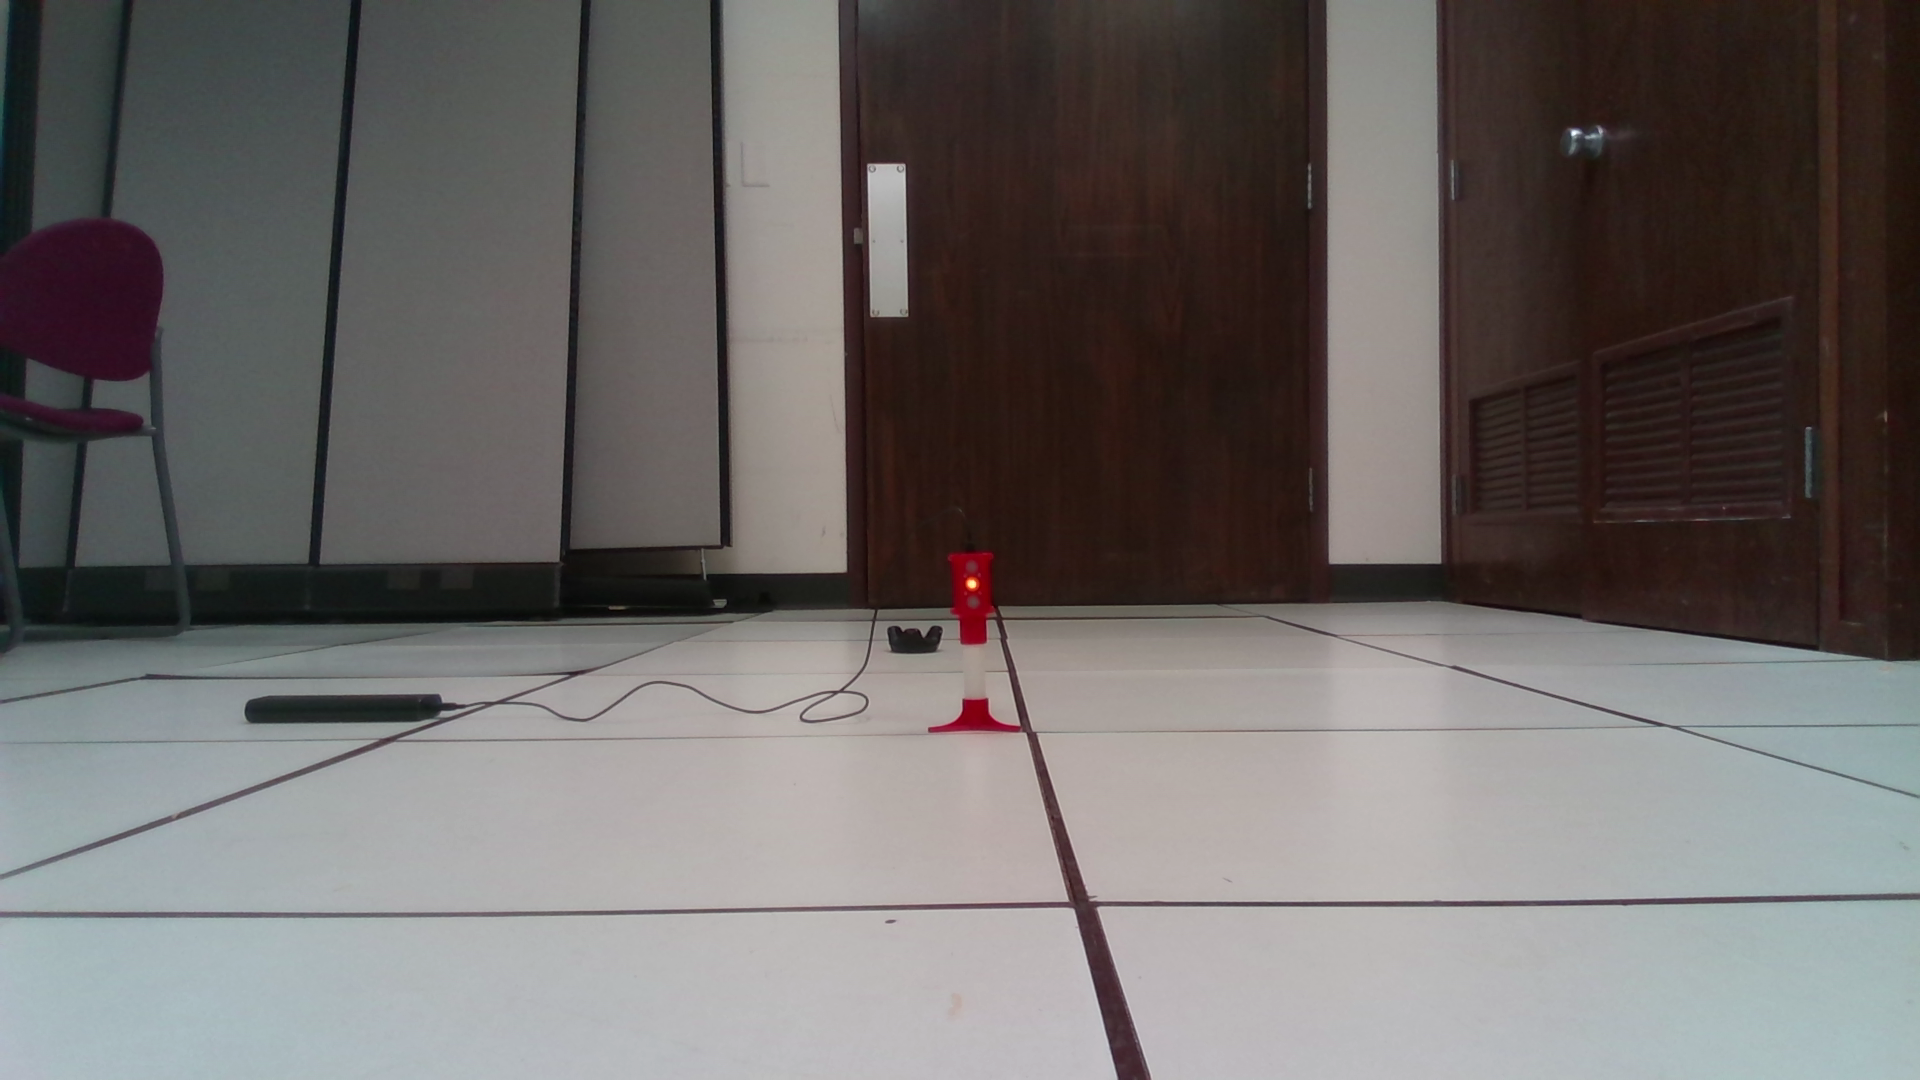stoplight: (945, 549, 998, 647)
